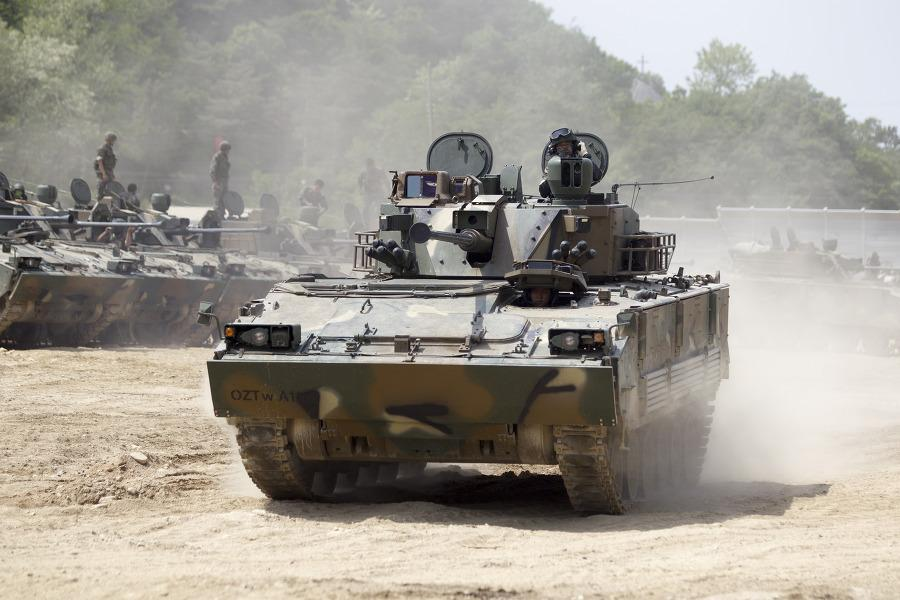MIL_IFV: (202, 125, 734, 519)
